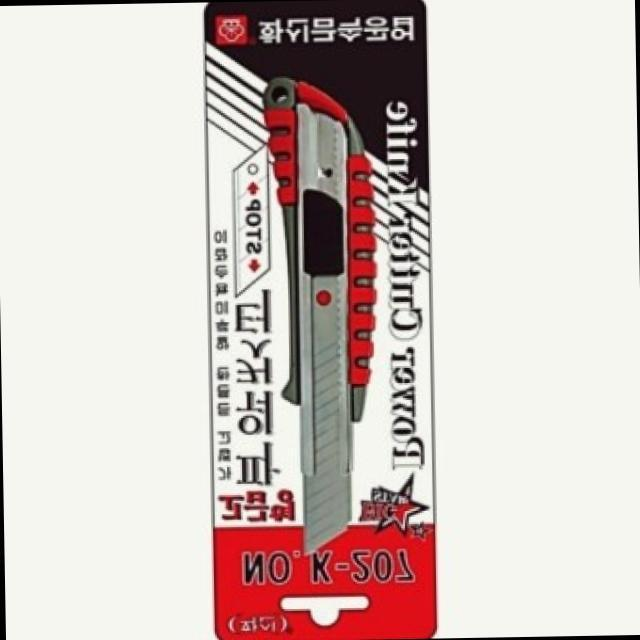cutter: (255, 69, 377, 557)
